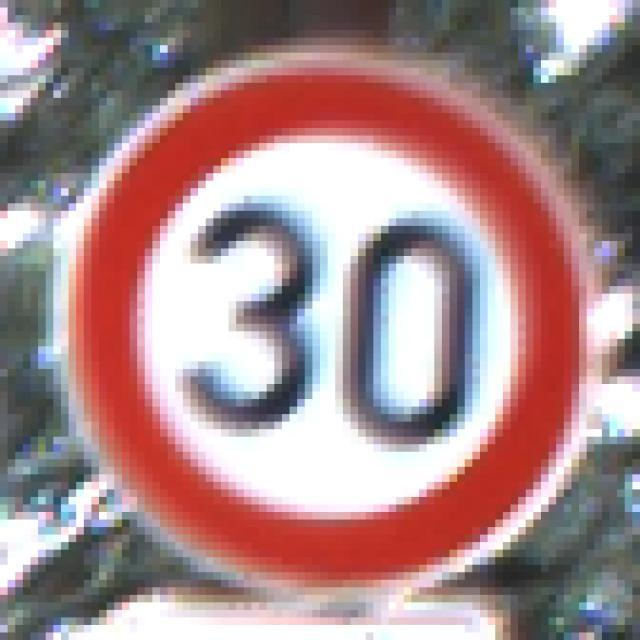Speed Limit -30-: (49, 49, 583, 584)
